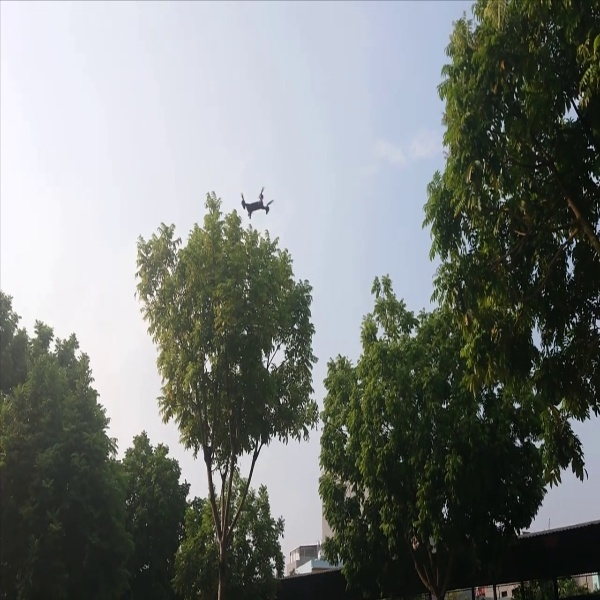drone: (238, 185, 278, 223)
